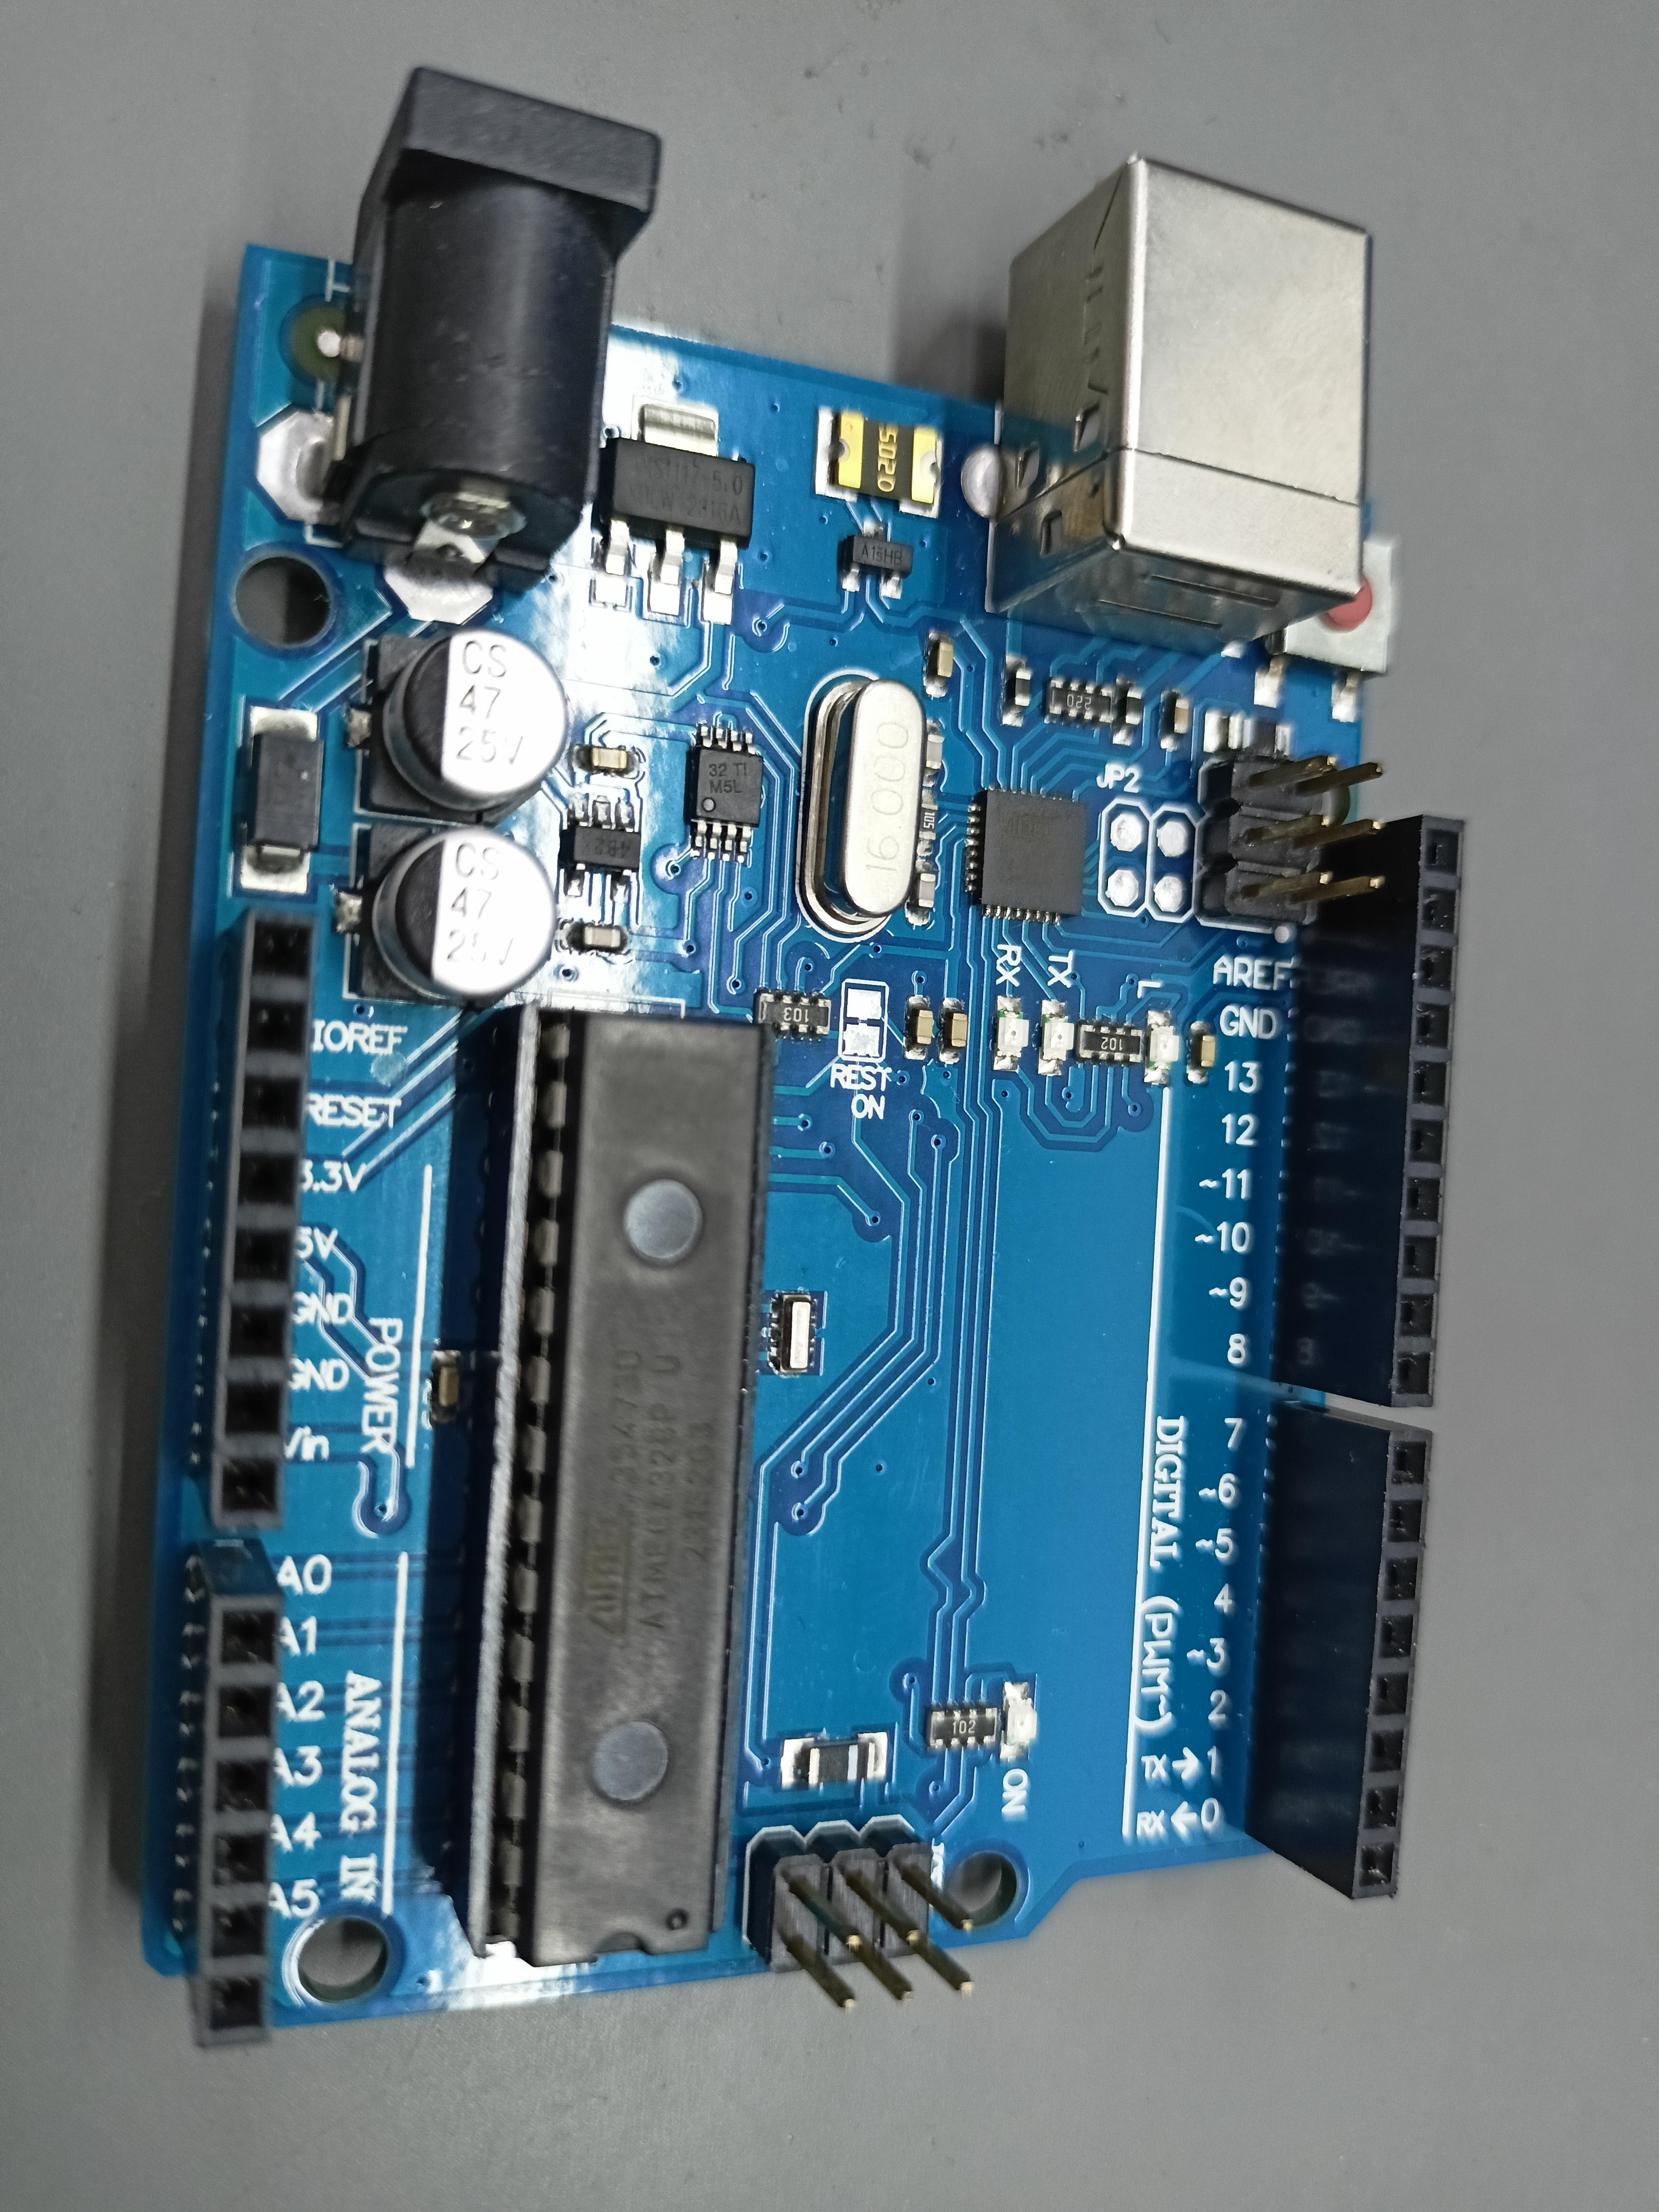ATmega328 chip: (434, 998, 775, 1966)
Arduino board: (141, 66, 1466, 2048)
USB: (992, 153, 1373, 655)
capacitor: (361, 631, 568, 829), (355, 822, 558, 1010)
pins: (1270, 813, 1466, 1407), (1244, 1400, 1432, 1898), (188, 904, 317, 1529), (167, 1540, 286, 2048)
resistor: (756, 991, 831, 1042), (925, 1705, 999, 1749), (1046, 679, 1114, 725), (1077, 1022, 1141, 1066)
